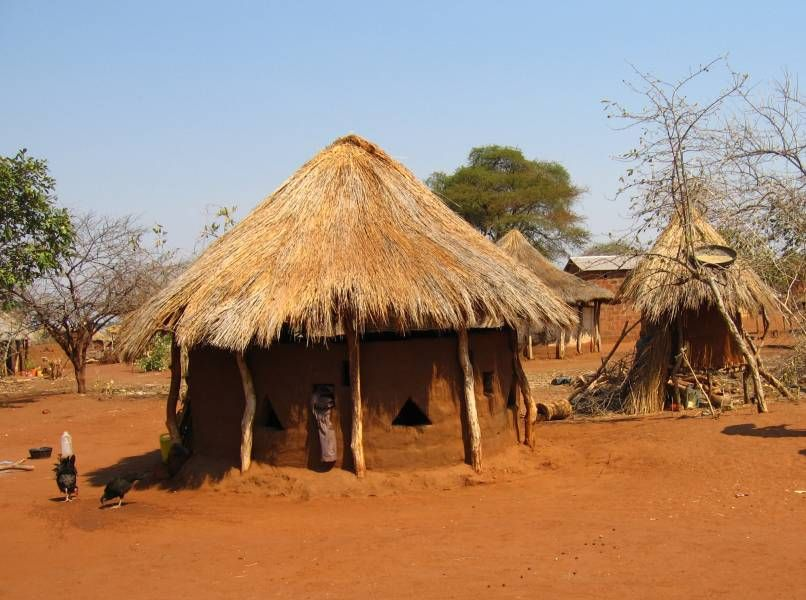Mud House: (142, 166, 553, 461), (622, 203, 775, 433)
